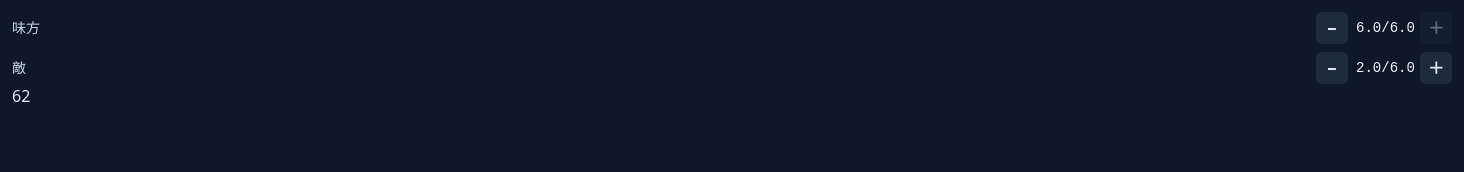
it: TeamRemainingCostEditor › increments enemy by 0.5 on + click
Click the button named "敵残コストを 0.5 増やす": click(1436, 68) [1420,52,1452,84]
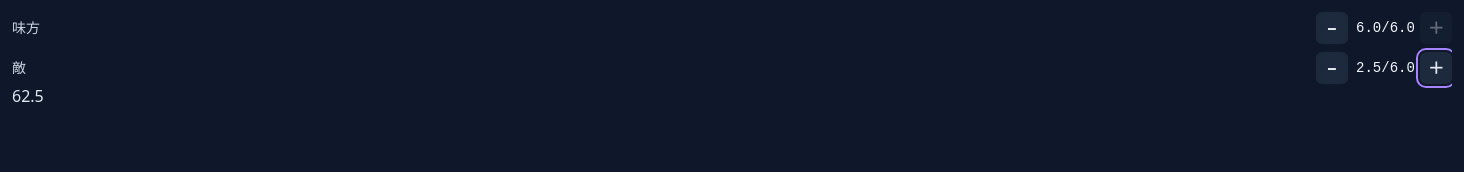
Expected: the text with test id "probe-enemy" reads "2.5", [21,85,44,107]
